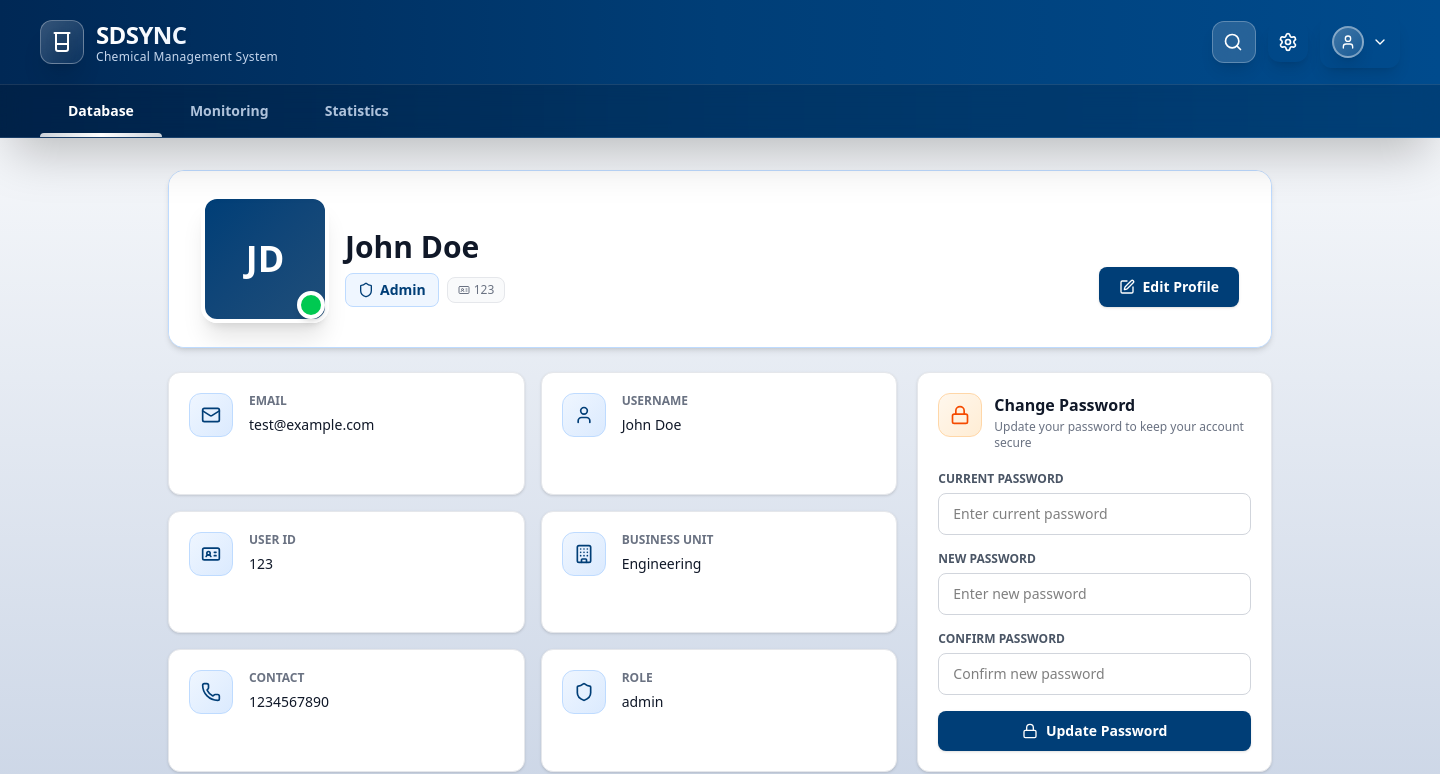
Test case: Profile page › updates profile successfully
The width and height of the screenshot is (1440, 774).
Step 1. Click the button "Edit Profile" → [1169, 287], box [1098,267,1239,307]
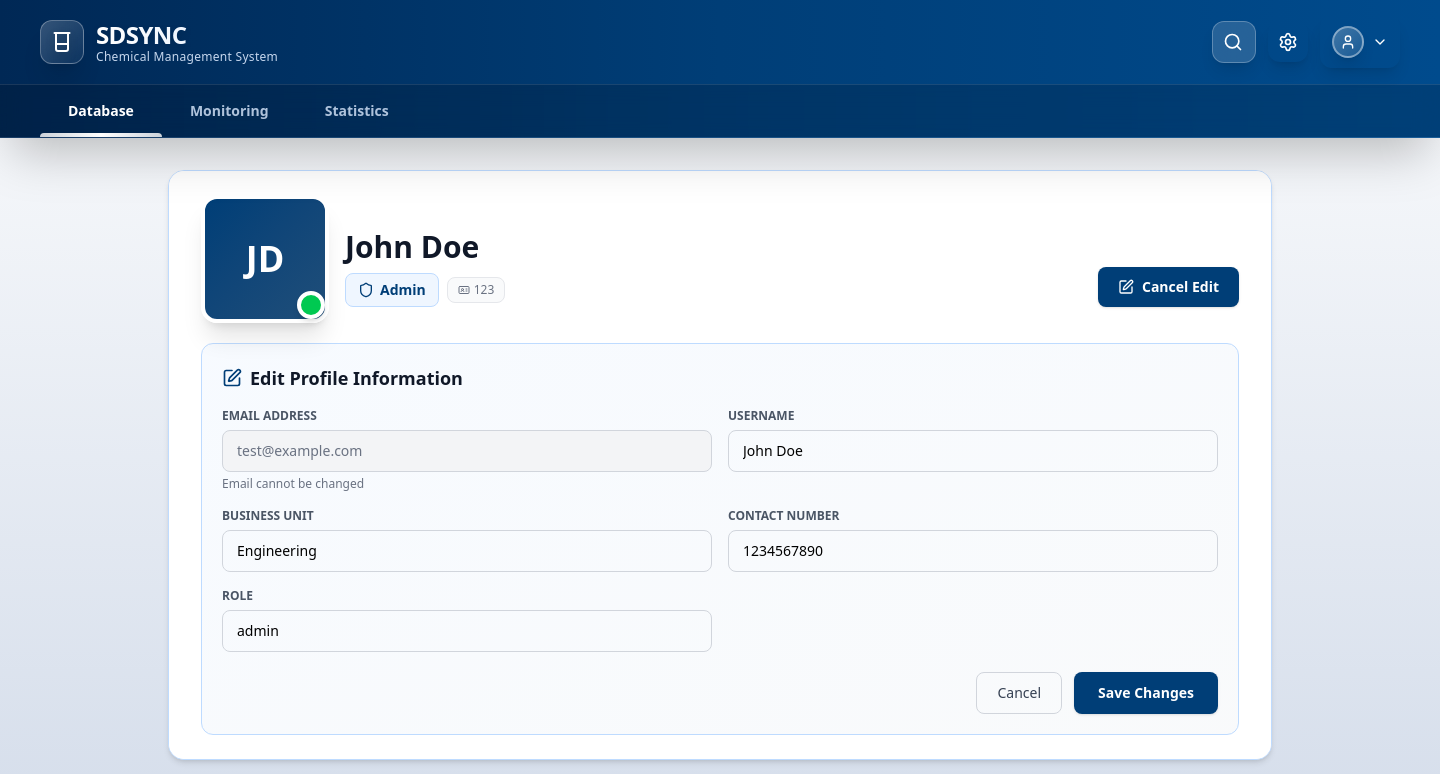
Step 2. Replace the text in the field labelled "Username" with "Jane Doe" → [973, 451], box [728,430,1218,472]
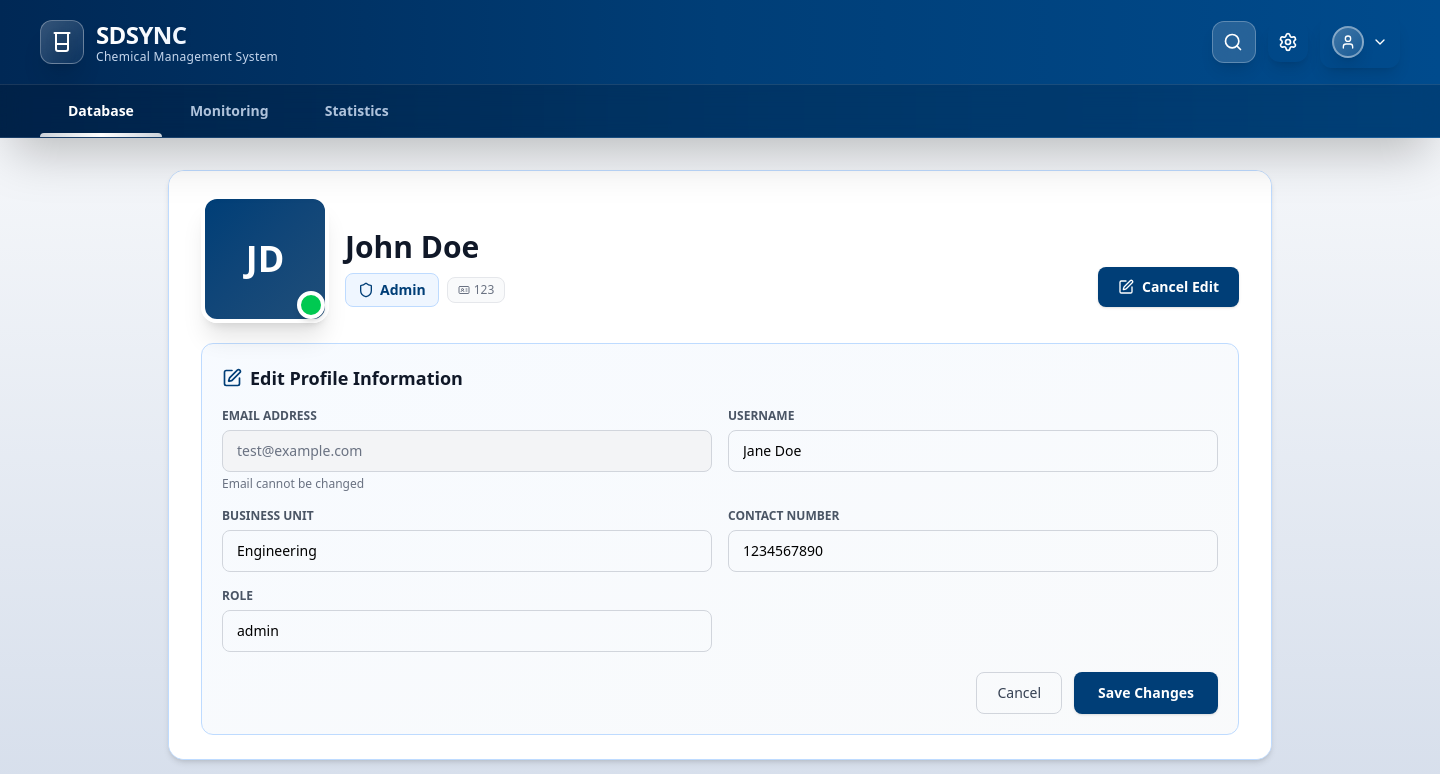
Step 3. Click the button "Save Changes" → [1146, 693], box [1074,672,1218,714]
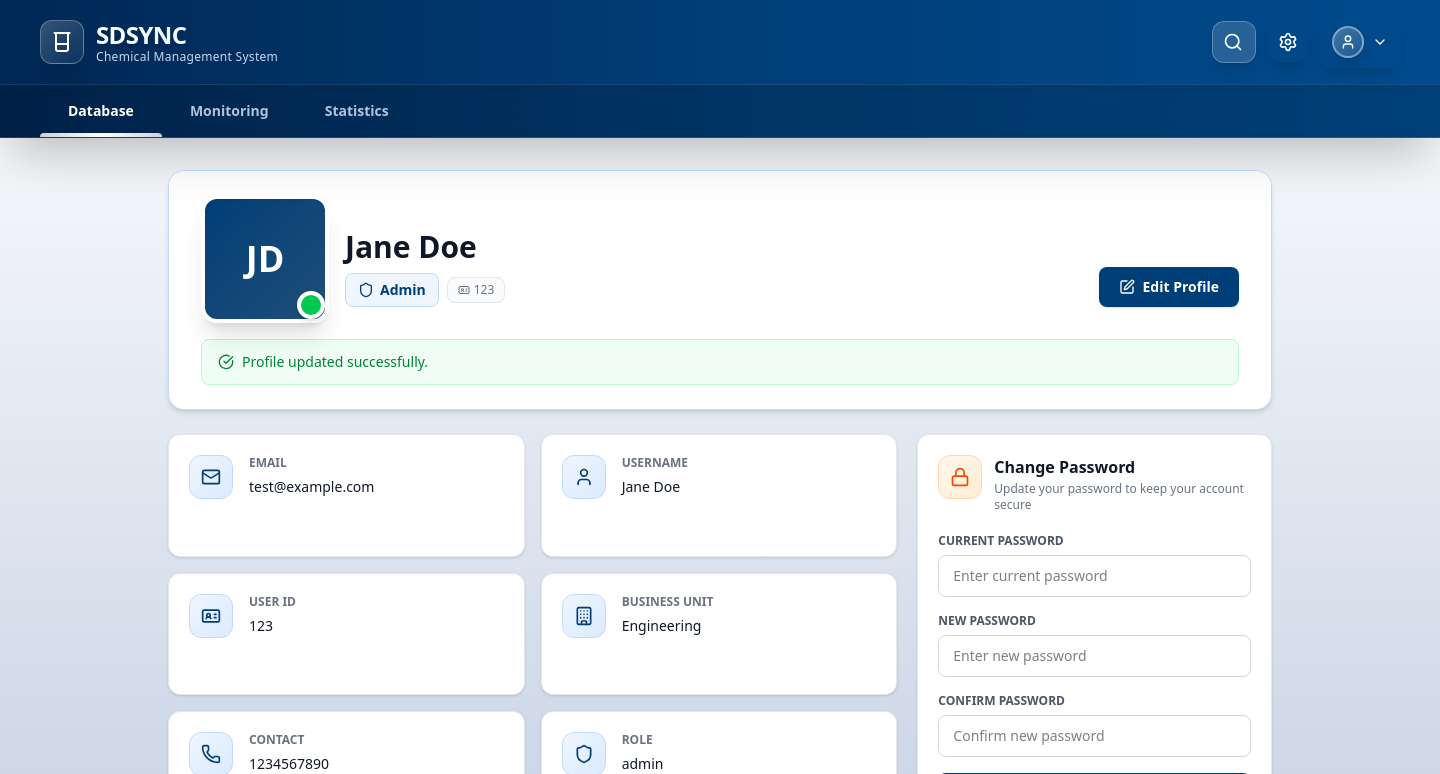
Expected: the heading "Jane Doe" is shown, [345,226,477,267]
Expected: the button "Edit Profile" is shown, [1098,267,1239,307]
